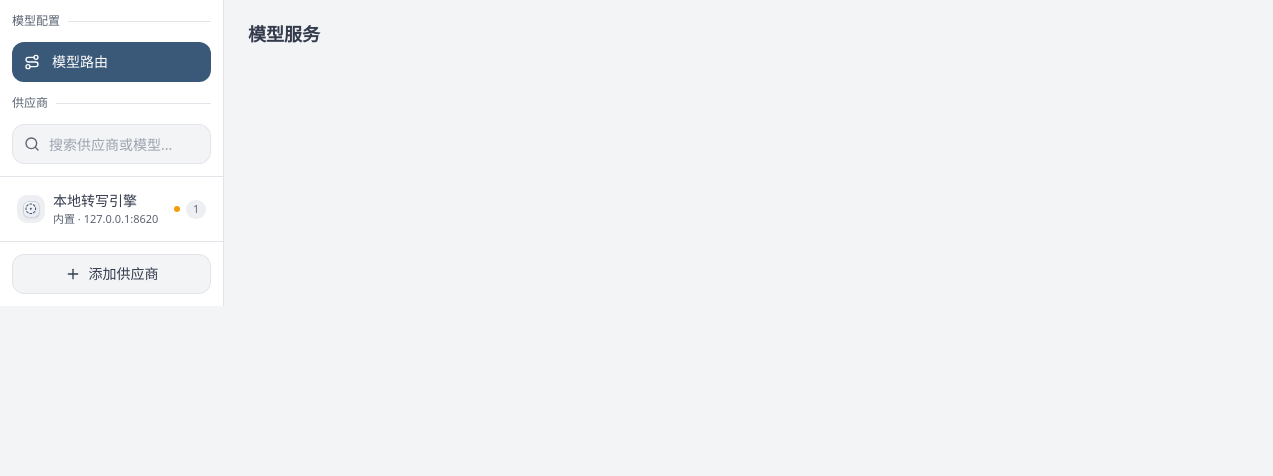
Scenario: 模型服务里的内置本地转写引擎 › 内置模型的删除与编辑都锁上，卸载入口指向采集设置
The width and height of the screenshot is (1273, 476).
Click the button "本地转写引擎 内置 · 127.0.0.1:8620 1" at (112, 209), box top-left (8, 185), bottom-right (215, 233)
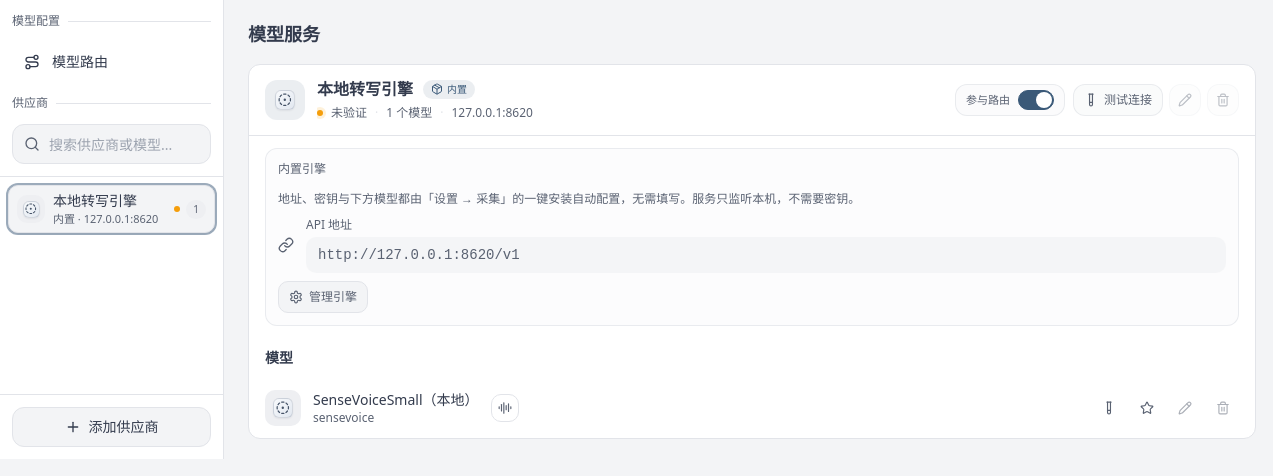
Now the button with test id "ai-endpoint-delete" is disabled, box top-left (1207, 84), bottom-right (1239, 116)
Now the button with test id "ai-endpoint-edit" is disabled, box top-left (1169, 84), bottom-right (1201, 116)
